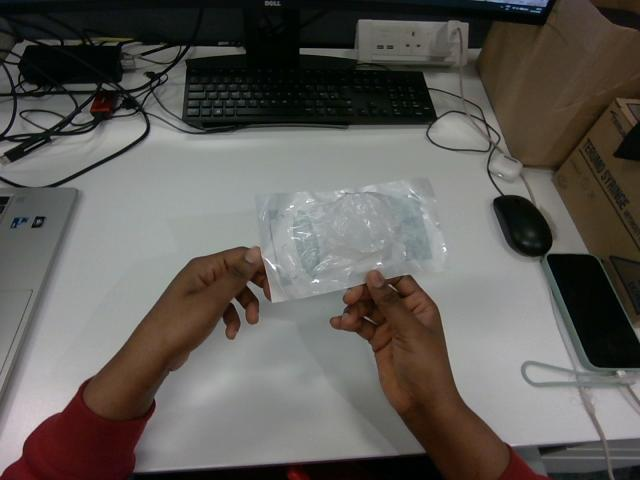gallipot: (256, 178, 446, 302)
